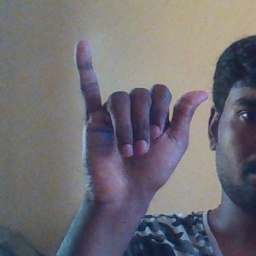J: (69, 39, 210, 192)
